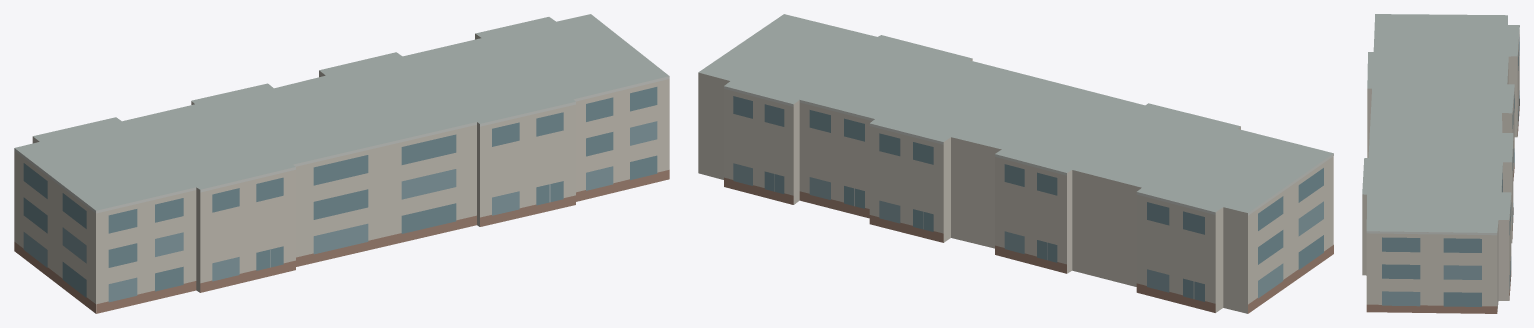
The model's file is survey-upis-32887153.glb.
3 renders of one model, left to right at view 1: azimuth 30°, elevation 25°; view 2: azimuth 150°, elevation 25°; view 3: azimuth 270°, elevation 25°, orthographic. The views are drawn at different scales.
Visible parts, largest first — view 1: survey-upis-32887153.tmp; view 2: survey-upis-32887153.tmp; view 3: survey-upis-32887153.tmp.
Part boxes in pixels (box(x1,y1,x2,y2)): survey-upis-32887153.tmp: box(14, 14, 669, 313); survey-upis-32887153.tmp: box(698, 14, 1333, 313); survey-upis-32887153.tmp: box(1362, 14, 1519, 313).
Bounding box in the file's own units: 53.17 × 9.15 × 16.17.
